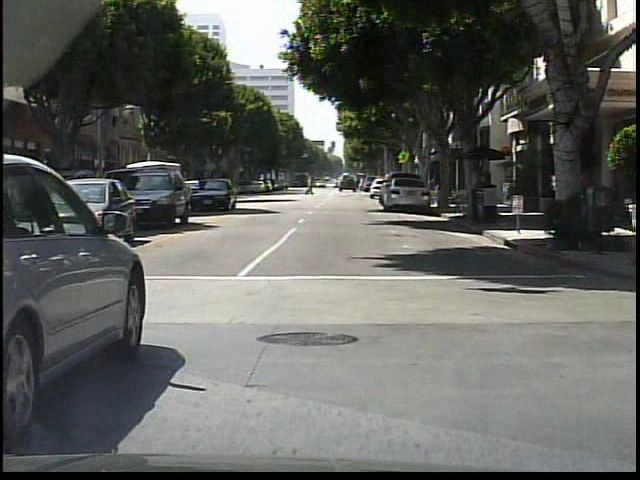person: (574, 167, 591, 238), (473, 165, 491, 222), (307, 177, 317, 197)
